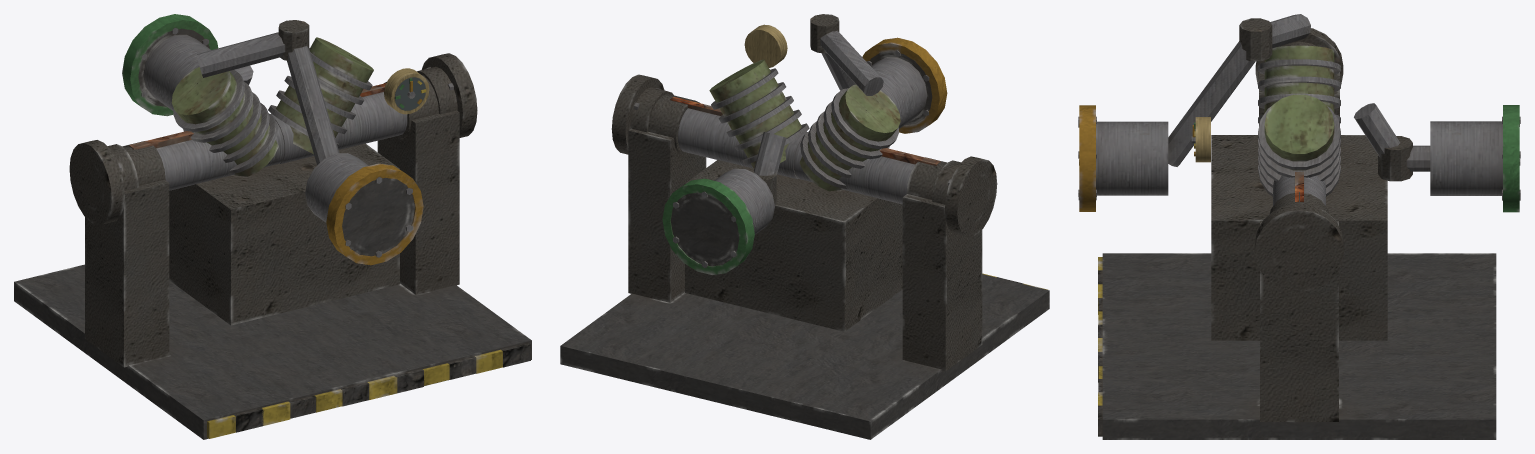
The model's file is feCompressor_HD.fbx.
3 views of the same model, side by side, from view 1: azimuth 30°, elevation 25°; view 2: azimuth 150°, elevation 25°; view 3: azimuth 270°, elevation 25° (orthographic). The views are drawn at different scales.
Visible parts, largest first — view 1: feCompressor_Base, FeSpin_DriveShaft; view 2: feCompressor_Base, FeSpin_DriveShaft; view 3: feCompressor_Base, FeSpin_DriveShaft.
Part boxes in pixels (x1,y1,x2,y2): feCompressor_Base: (14,14,531,439); FeSpin_DriveShaft: (69,53,477,225); feCompressor_Base: (560,14,1049,439); FeSpin_DriveShaft: (611,74,997,237); feCompressor_Base: (1078,14,1520,439); FeSpin_DriveShaft: (1254,28,1344,291).
Size of the model in its own units: 1 by 0.8381 by 1.01.
1 material, 1 textured.
